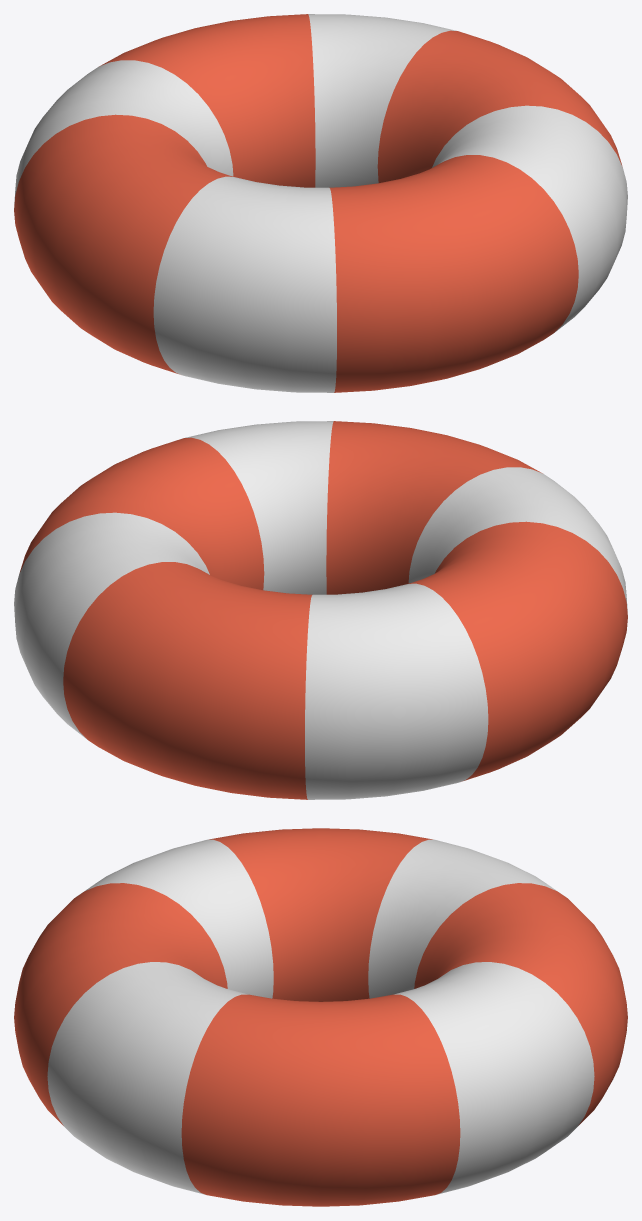
Rendered from youyongquan_6.fbx.
3 renders of one model, top to bottom at view 1: azimuth 30°, elevation 25°; view 2: azimuth 150°, elevation 25°; view 3: azimuth 270°, elevation 25°, orthographic.
Parts seen in each view (by area): view 1: pTorus1; view 2: pTorus1; view 3: pTorus1.
Part boxes in pixels (x1=…): pTorus1: x1=14, y1=14, x2=627, y2=392; pTorus1: x1=14, y1=421, x2=627, y2=799; pTorus1: x1=14, y1=828, x2=627, y2=1206.
Bounding box in the file's own units: 2.95 × 0.9878 × 2.95.
